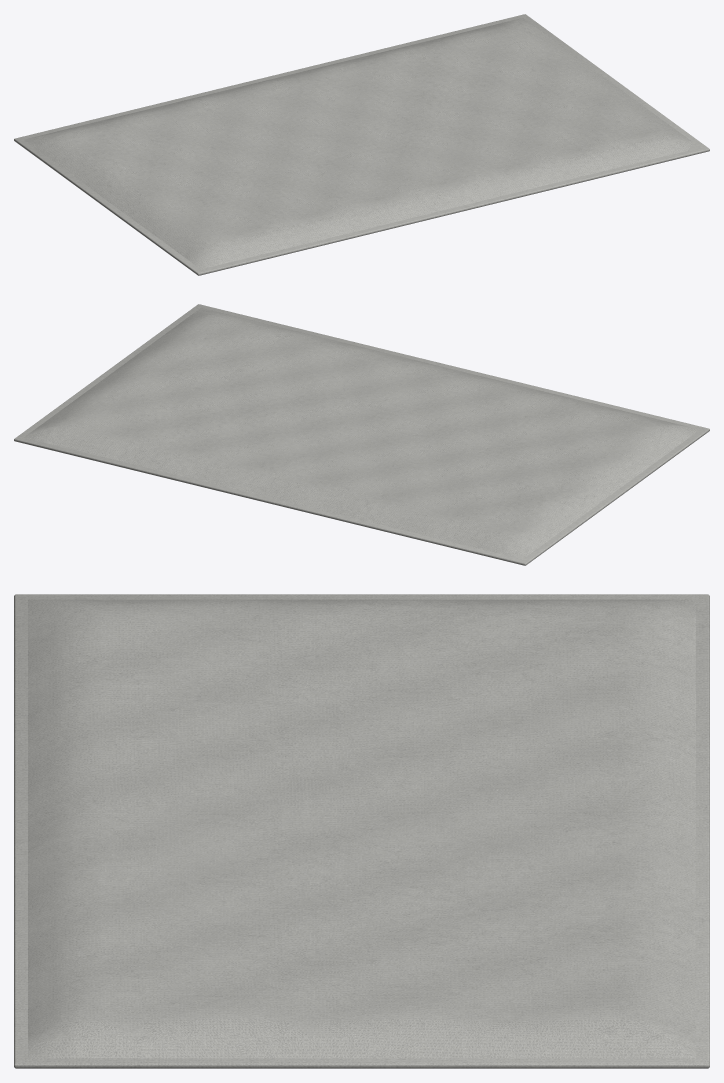
The model's file is BathMat.glb.
3 views of the same model, one above another, from view 1: azimuth 30°, elevation 25°; view 2: azimuth 150°, elevation 25°; view 3: azimuth 270°, elevation 25° (orthographic). The views are drawn at different scales.
Parts seen in each view (by area): view 1: BathMat; view 2: BathMat; view 3: BathMat.
Boxes of the visible parts, x1,y1,x2,y2 form: BathMat: (14, 14, 709, 275); BathMat: (14, 304, 709, 565); BathMat: (14, 594, 709, 1068).
Bounding box in the file's own units: 0.8 × 0.018 × 0.5.
Materials: 1 (1 with a texture image).
